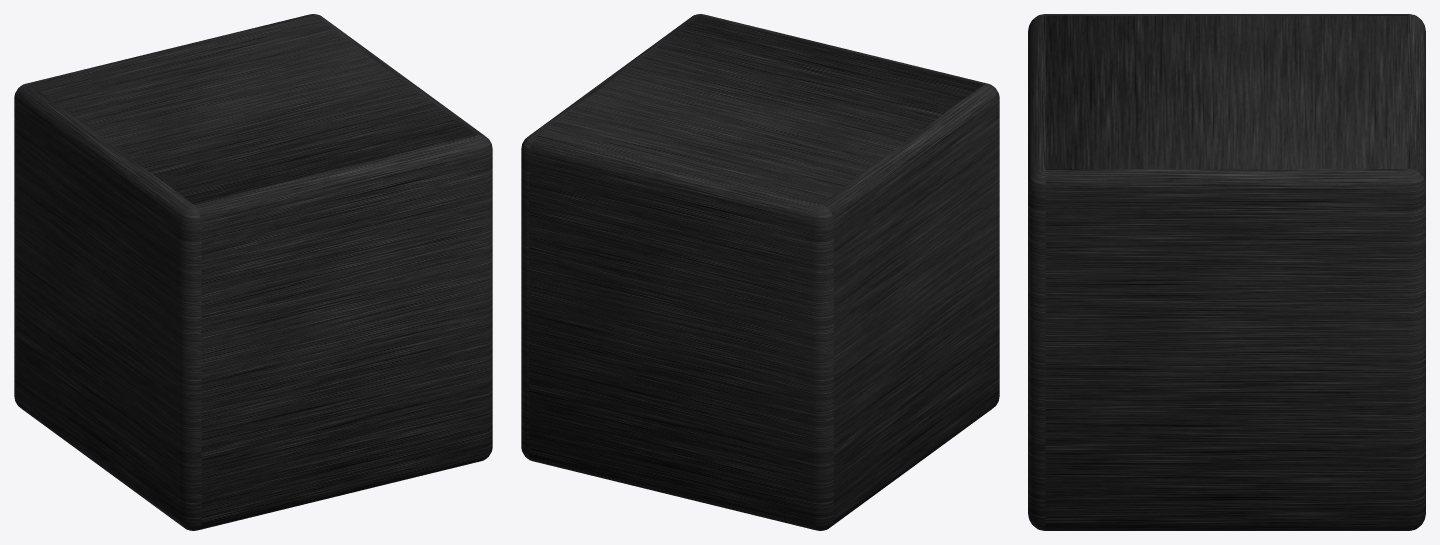
The model's file is Platformcube.fbx.
3 views of the same model, side by side, from view 1: azimuth 30°, elevation 25°; view 2: azimuth 150°, elevation 25°; view 3: azimuth 270°, elevation 25° (orthographic). The views are drawn at different scales.
Parts seen in each view (by area): view 1: Cube; view 2: Cube; view 3: Cube.
Boxes of the visible parts, left/top/right/bottom form: Cube: left=14, top=14, right=492, bottom=530; Cube: left=521, top=14, right=999, bottom=530; Cube: left=1028, top=14, right=1425, bottom=530.
Size of the model in its own units: 250 by 250 by 250.
1 material, 1 textured.
